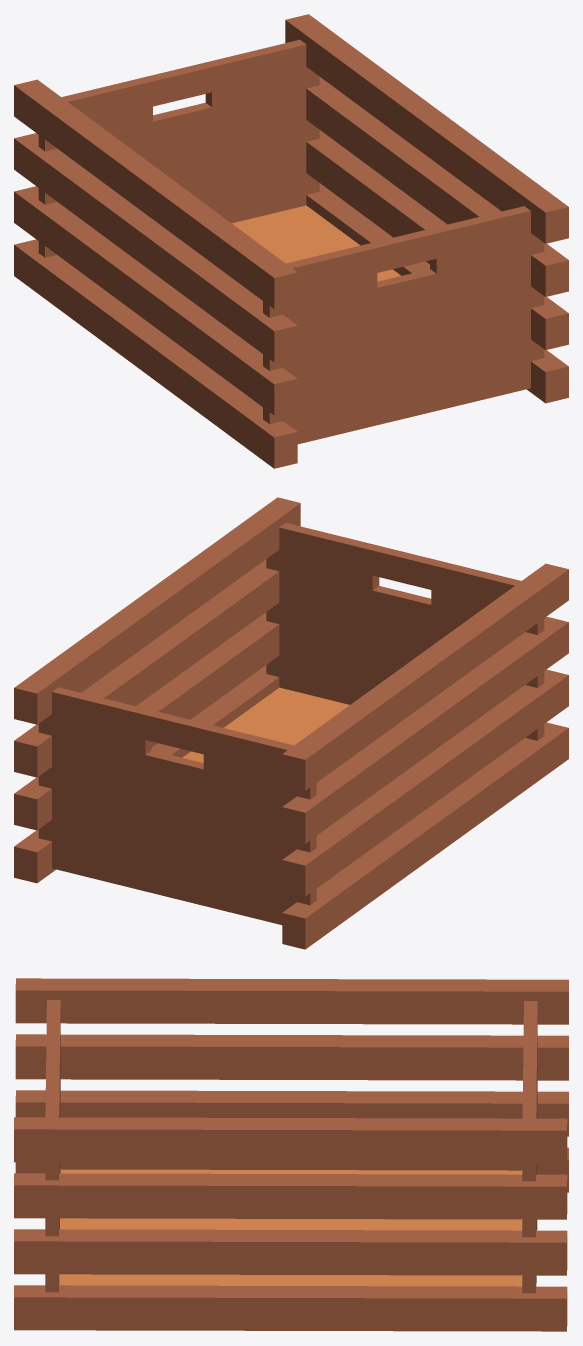
The model's file is caixa-madeira-grande.fbx.
3 renders of one model, top to bottom at view 1: azimuth 30°, elevation 25°; view 2: azimuth 150°, elevation 25°; view 3: azimuth 270°, elevation 25°, orthographic. The views are drawn at different scales.
Visible parts, largest first — view 1: CaixaMadeira_LOD0; view 2: CaixaMadeira_LOD0; view 3: CaixaMadeira_LOD0.
Part boxes in pixels (<box>): CaixaMadeira_LOD0: <box>14,14,568,468</box>; CaixaMadeira_LOD0: <box>14,497,568,949</box>; CaixaMadeira_LOD0: <box>14,978,568,1331</box>.
Size of what is drawn, in the model's own units: 117 by 72.22 by 181.
